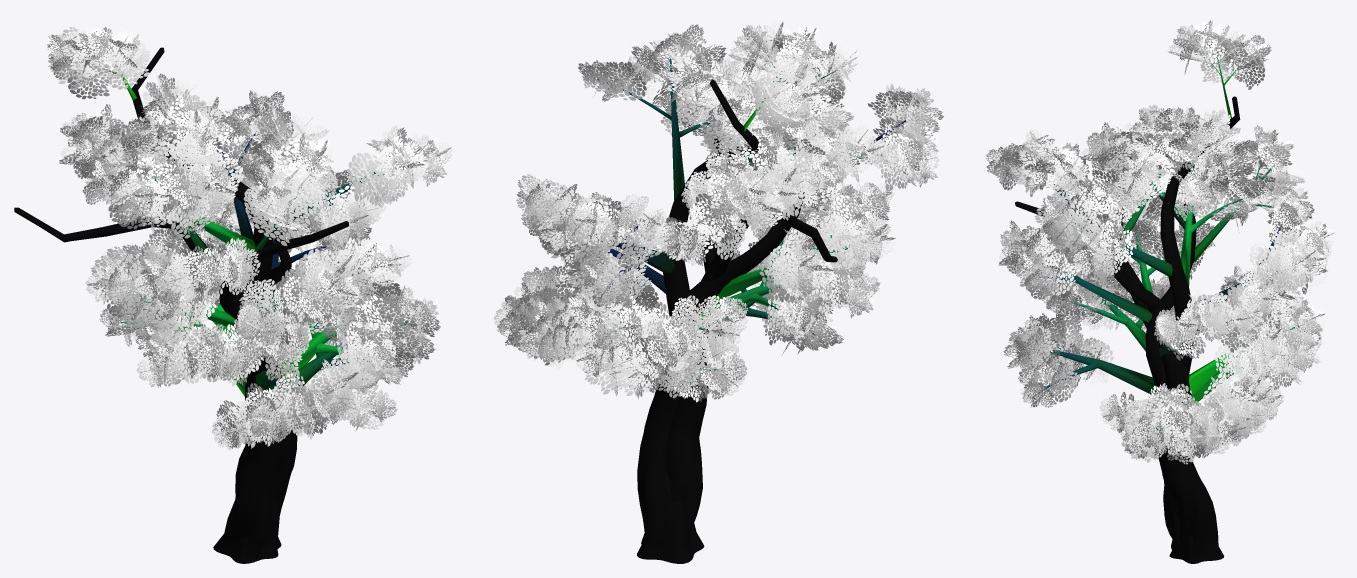
File: tree2re.fbx
3 views of the same model, side by side, from view 1: azimuth 30°, elevation 25°; view 2: azimuth 150°, elevation 25°; view 3: azimuth 270°, elevation 25° (orthographic). The views are drawn at different scales.
Parts seen in each view (by area): view 1: Tree_1, Tree_0; view 2: Tree_1, Tree_0; view 3: Tree_1, Tree_0.
Boxes of the visible parts, x1,y1,x2,y2 form: Tree_1: (47, 26, 452, 450); Tree_0: (14, 47, 412, 563); Tree_1: (494, 20, 943, 402); Tree_0: (522, 55, 905, 563); Tree_1: (986, 20, 1336, 464); Tree_0: (1015, 56, 1312, 563).
Size of the model in its own units: 367 by 525 by 362.
1 material, 1 textured.
